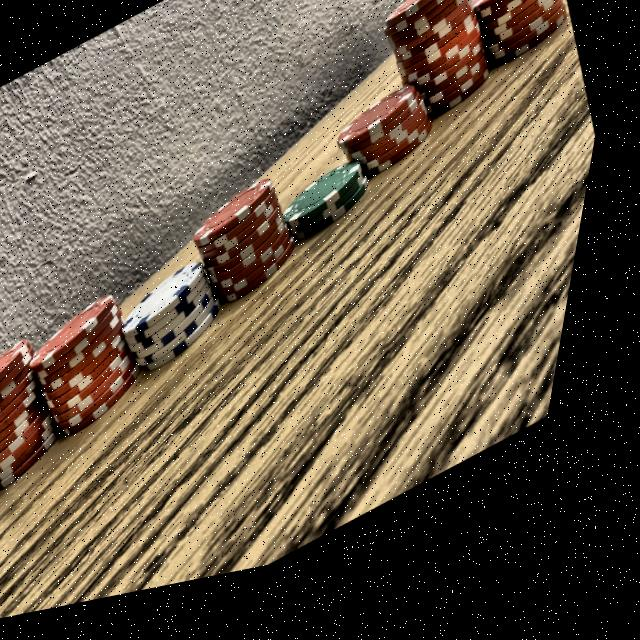Chip: (14, 270, 190, 468), (353, 0, 534, 176), (178, 164, 338, 343), (0, 317, 110, 522), (118, 246, 263, 397), (328, 83, 461, 216), (461, 0, 586, 105), (281, 166, 393, 268)
